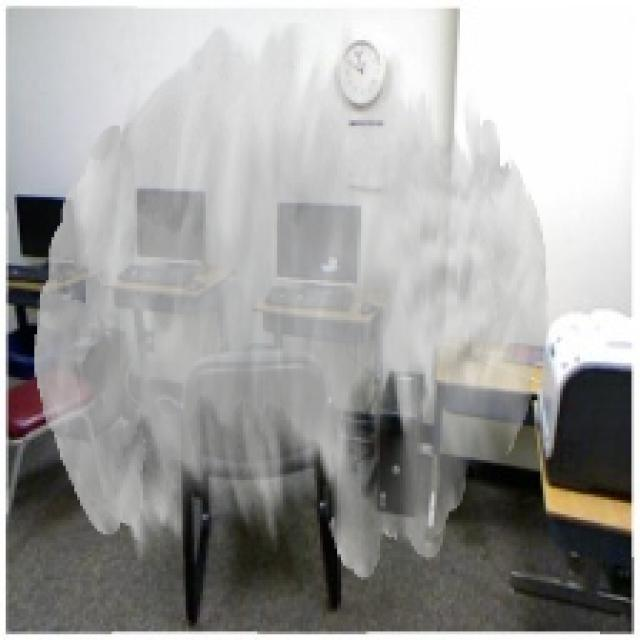smoke: (34, 23, 549, 580)
